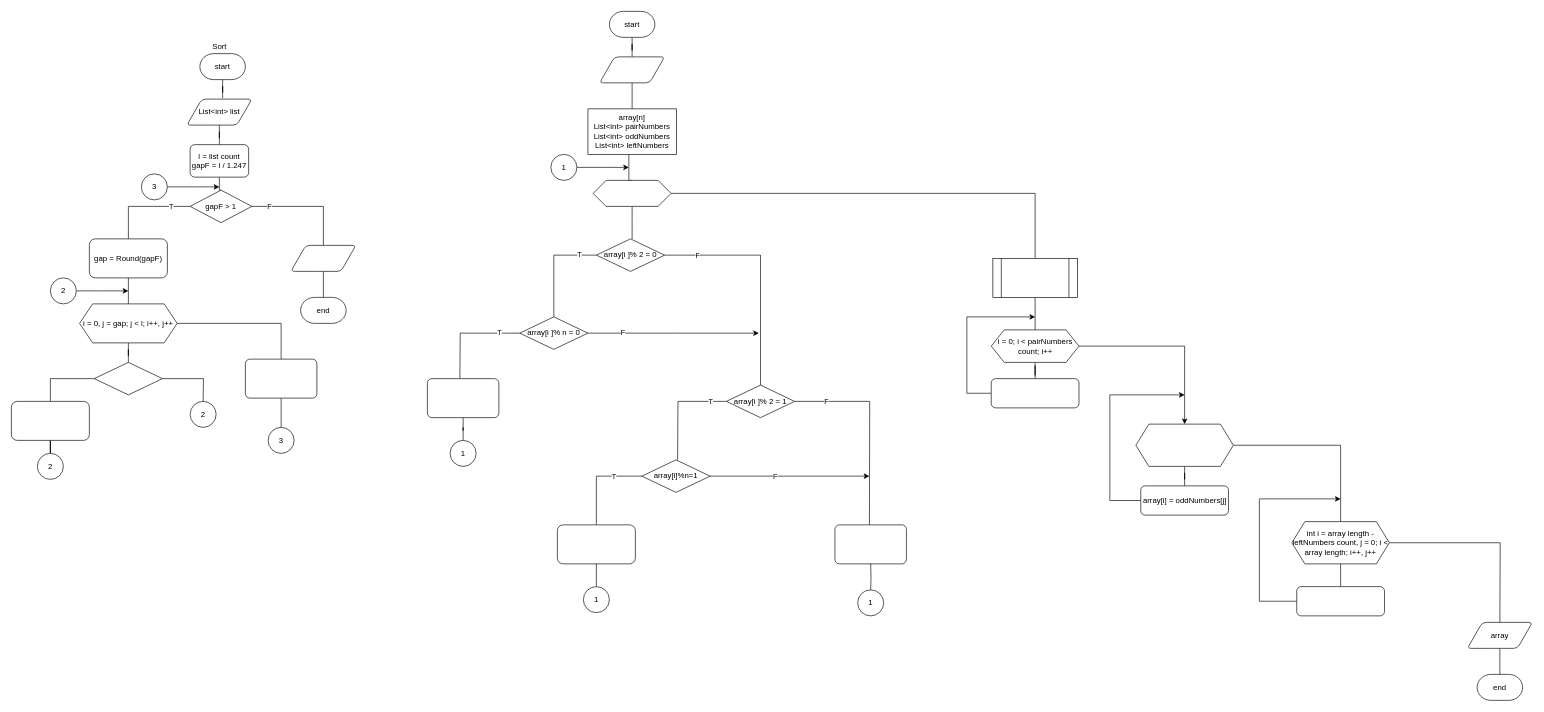
Image size: 1544x712. Some labels were removed from this diagram. Here are the shapes that lost their labels. From the top down, the centre of each, then its label:
the point at 632,69: n є R
the point at 631,193: i = 0; i<n; i++
the point at 323,258: list
the point at 1034,277: pairNumbers = Sort(pairNumbers) oddNumbers = Sort(oddNumbers)
the point at 128,378: list[i] < list[j]
the point at 281,378: gapF = gapf / 1.247
the point at 463,398: pairNumbers add array[i]
the point at 1035,393: array[i] = pairNumbers[i]
the point at 50,420: temp = list[i] list[i] = list[j] list[j] = temp
the point at 1184,444: i = pairNumbers count, j = 0; i < array length - leftNumbers count; i++, j++
the point at 596,544: oddNumbers add array[i]
the point at 870,544: leftNumbers add array[i]
the point at 1340,601: array[i] = leftNumbers[j]
